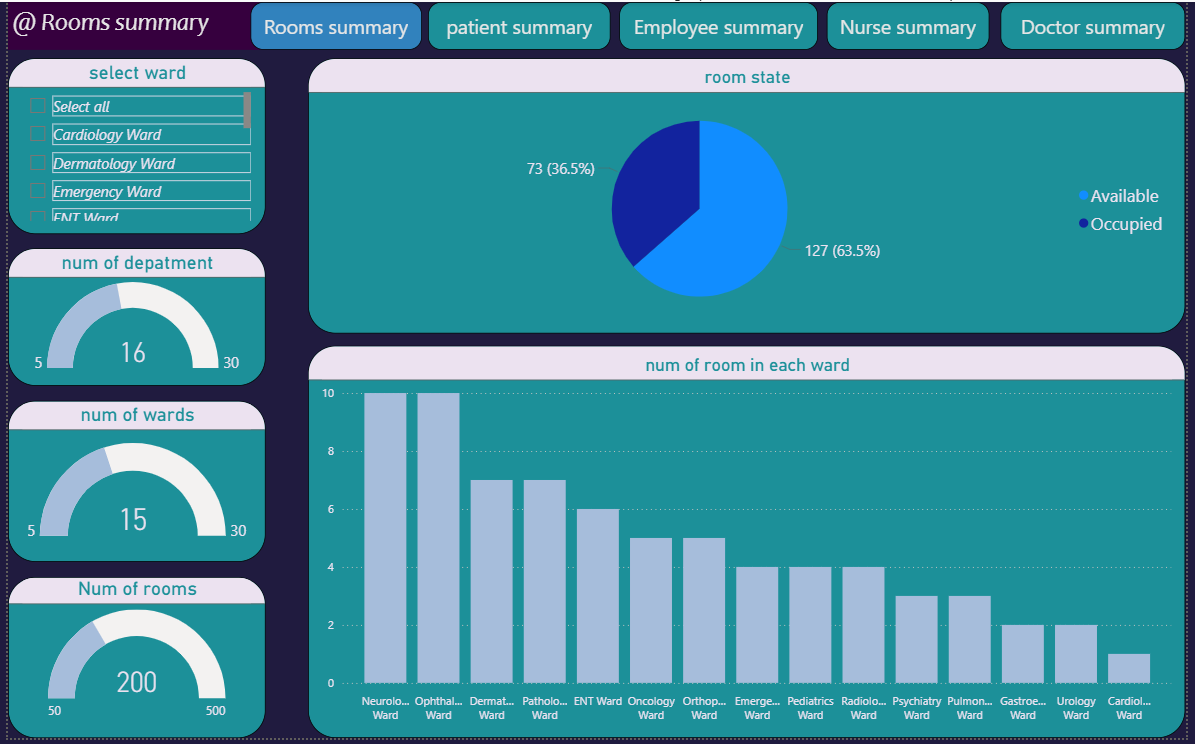

This screenshot's page, from the dashboard's own definition file:
{"tool":"powerbi","page":{"name":"room","canvas":[1280,800],"ordinal":5},"visuals":[{"type":"gauge","title":"Num of rooms","fields":{"Y":["CountNonNull(Room.Ro_ID)"]},"box":[0,625,279.9,175.3],"z":0},{"type":"gauge","title":"num of wards ","fields":{"Y":["CountNonNull(Ward.Wr_ID)"]},"box":[0,433.4,279.9,175.3],"z":1000},{"type":"clusteredColumnChart","title":"num of room in each ward ","fields":{"Y":["CountNonNull(Room.Ro_ID)"],"Category":["Ward.Name"]},"box":[326.1,373.6,953.8,426.6],"z":2000},{"type":"pieChart","title":"room state","fields":{"Y":["CountNonNull(Room.Ro_ID)"],"Category":["Room.Avaliblity"]},"box":[326.1,61.1,953.8,298.9],"z":3000},{"type":"slicer","title":"select ward","fields":{"Values":["Ward.Name"]},"box":[0,61.1,279.9,191.6],"z":4000},{"type":"gauge","title":"num of depatment","fields":{"Y":["CountNonNull(Department.Dep_ID)"]},"box":[0,267.7,279.9,149.5],"z":5000},{"type":"textbox","box":[0,0,298.9,51.6],"z":6000},{"type":"actionButton","box":[890,0,176.6,51.6],"z":7000},{"type":"actionButton","box":[664.4,0,216,51.6],"z":8000},{"type":"actionButton","box":[456.5,0,198.4,51.6],"z":9000},{"type":"actionButton","box":[1078.8,0,201.1,51.6],"z":10000},{"type":"actionButton","box":[263.6,0,186.1,51.6],"z":11000}]}

Visuals, with their boxes in screenshot pixels (x1, y1, x2, y2), scaled from the page's 1280x800 canvas onto the 1195x744 screenshot:
"Num of rooms" gauge: 0:581:261:743
"num of wards " gauge: 0:403:261:566
"num of room in each ward " clusteredColumnChart: 304:347:1194:743
"room state" pieChart: 304:57:1194:335
"select ward" slicer: 0:57:261:235
"num of depatment" gauge: 0:249:261:388
textbox: 0:0:279:48
actionButton: 831:0:996:48
actionButton: 620:0:822:48
actionButton: 426:0:611:48
actionButton: 1007:0:1194:48
actionButton: 246:0:420:48
